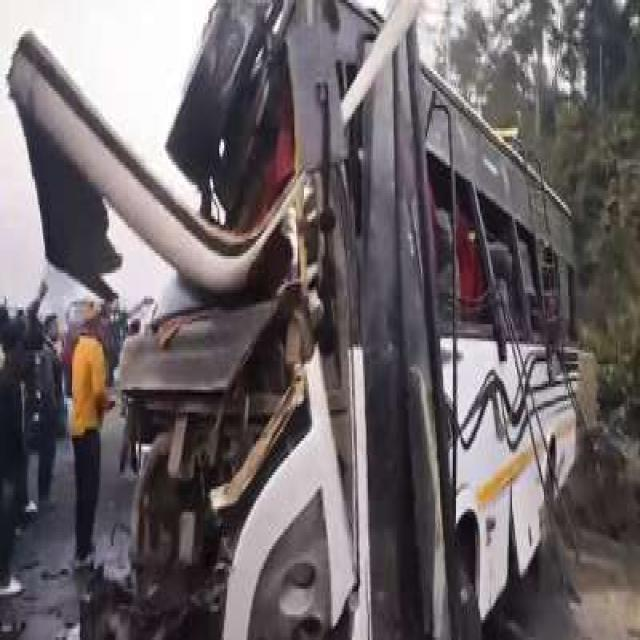accident: (9, 0, 575, 637)
